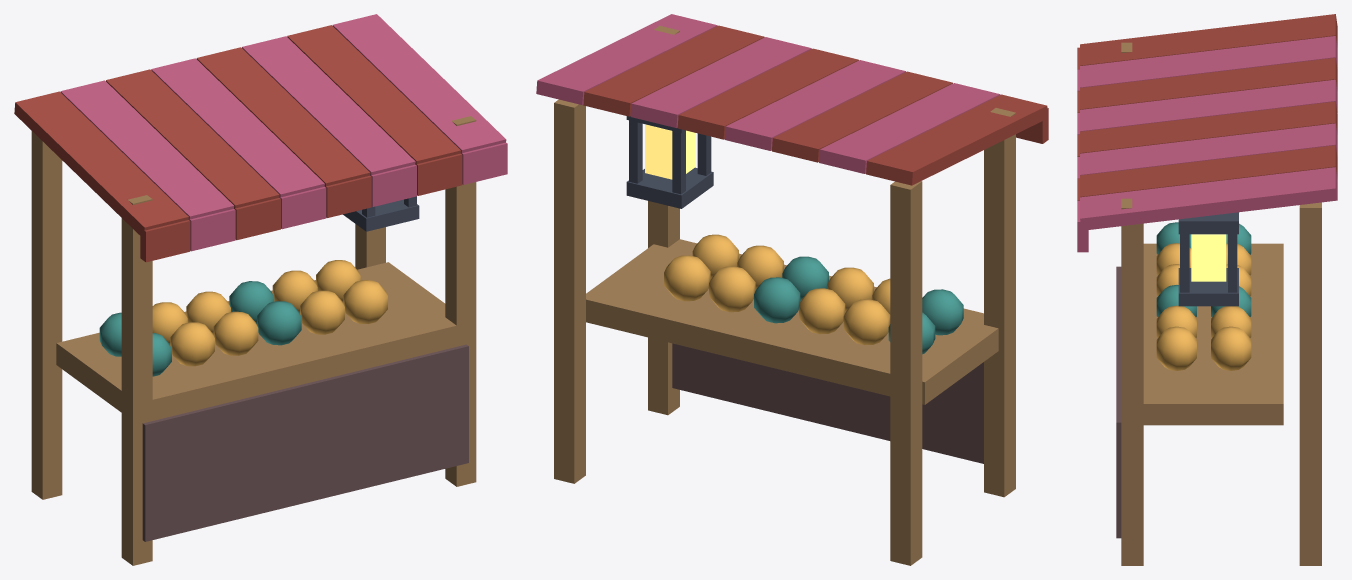
The model's file is market_stall_lit.glb.
The picture shows the model from 3 angles, left to right: view 1: azimuth 30°, elevation 25°; view 2: azimuth 150°, elevation 25°; view 3: azimuth 270°, elevation 25°; orthographic projection. The views are drawn at different scales.
Visible parts, largest first — view 1: Lit_stall_front_boards, Lit_stall_counter, Lit_stall_post.001, Lit_stall_post, Lit_stall_awning_stripe, Lit_stall_awning_stripe.001, Lit_stall_awning_stripe.002, Lit_stall_awning_stripe.003, Lit_stall_awning_stripe.004, Lit_stall_awning_stripe.005, Lit_stall_awning_stripe.006, Lit_stall_awning_stripe.007 (+23 smaller); view 2: Lit_stall_counter, Lit_stall_front_boards, Lit_stall_post.001, Lit_stall_post.003, Lit_stall_post, Lit_stall_awning_stripe, Lit_stall_awning_stripe.001, Lit_stall_awning_stripe.002, Lit_stall_awning_stripe.003, Lit_stall_awning_stripe.004, Lit_stall_awning_stripe.005, Lit_stall_awning_stripe.006 (+16 smaller); view 3: Lit_stall_counter, Lit_stall_awning_stripe.007, Lit_stall_post.003, Lit_stall_post.002, Lit_stall_awning_stripe.004, Lit_stall_awning_stripe.005, Lit_stall_awning_stripe.003, Lit_stall_awning_stripe.006, Lit_stall_awning_stripe.001, Lit_stall_awning_stripe.002, Lit_stall_awning_stripe, Lit_stall_hanging_lantern_amber (+16 smaller).
Part boxes in pixels (x1=…): Lit_stall_front_boards: x1=142, y1=344, x2=468, y2=541; Lit_stall_counter: x1=56, y1=262, x2=468, y2=424; Lit_stall_post.001: x1=31, y1=131, x2=62, y2=499; Lit_stall_post: x1=121, y1=195, x2=152, y2=565; Lit_stall_awning_stripe: x1=14, y1=91, x2=188, y2=238; Lit_stall_awning_stripe.001: x1=60, y1=80, x2=234, y2=220; Lit_stall_awning_stripe.002: x1=106, y1=69, x2=279, y2=208; Lit_stall_awning_stripe.003: x1=151, y1=58, x2=324, y2=197; Lit_stall_awning_stripe.004: x1=196, y1=47, x2=370, y2=186; Lit_stall_awning_stripe.005: x1=242, y1=36, x2=415, y2=175; Lit_stall_awning_stripe.006: x1=287, y1=25, x2=460, y2=164; Lit_stall_awning_stripe.007: x1=332, y1=14, x2=506, y2=153; Lit_stall_counter: x1=586, y1=239, x2=998, y2=404; Lit_stall_front_boards: x1=672, y1=343, x2=983, y2=463; Lit_stall_post.001: x1=890, y1=181, x2=922, y2=565; Lit_stall_post.003: x1=554, y1=99, x2=585, y2=483; Lit_stall_post: x1=984, y1=108, x2=1015, y2=497; Lit_stall_awning_stripe: x1=866, y1=94, x2=1047, y2=185; Lit_stall_awning_stripe.001: x1=819, y1=83, x2=1000, y2=173; Lit_stall_awning_stripe.002: x1=772, y1=71, x2=952, y2=162; Lit_stall_awning_stripe.003: x1=724, y1=60, x2=905, y2=150; Lit_stall_awning_stripe.004: x1=677, y1=48, x2=858, y2=139; Lit_stall_awning_stripe.005: x1=630, y1=37, x2=811, y2=127; Lit_stall_awning_stripe.006: x1=583, y1=25, x2=764, y2=116; Lit_stall_counter: x1=1143, y1=243, x2=1283, y2=425; Lit_stall_awning_stripe.007: x1=1080, y1=167, x2=1337, y2=230; Lit_stall_post.003: x1=1299, y1=202, x2=1321, y2=565; Lit_stall_post.002: x1=1121, y1=198, x2=1143, y2=565; Lit_stall_awning_stripe.004: x1=1080, y1=101, x2=1337, y2=153; Lit_stall_awning_stripe.005: x1=1080, y1=123, x2=1337, y2=175; Lit_stall_awning_stripe.003: x1=1080, y1=79, x2=1337, y2=131; Lit_stall_awning_stripe.006: x1=1080, y1=145, x2=1337, y2=197; Lit_stall_awning_stripe.001: x1=1080, y1=36, x2=1337, y2=87; Lit_stall_awning_stripe.002: x1=1080, y1=57, x2=1337, y2=109; Lit_stall_awning_stripe: x1=1080, y1=14, x2=1337, y2=65; Lit_stall_hanging_lantern_amber: x1=1191, y1=234, x2=1226, y2=281.
Bounding box in the file's own units: 2.59 × 2.65 × 1.63.
